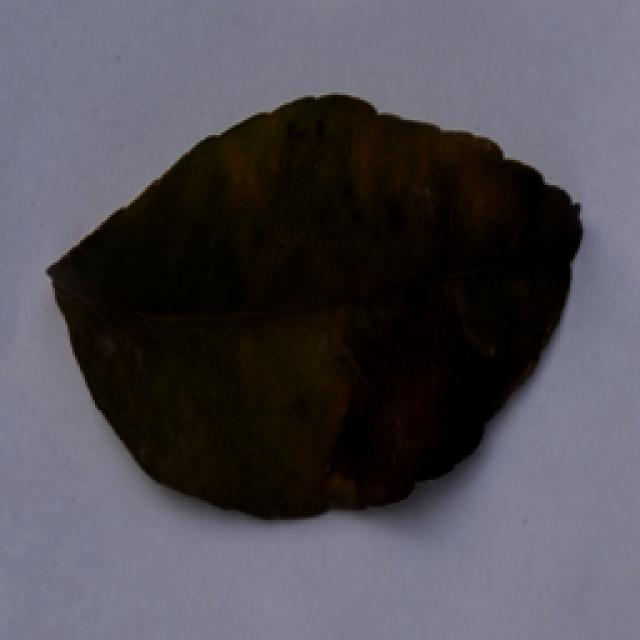blackspot: (45, 82, 592, 520)
